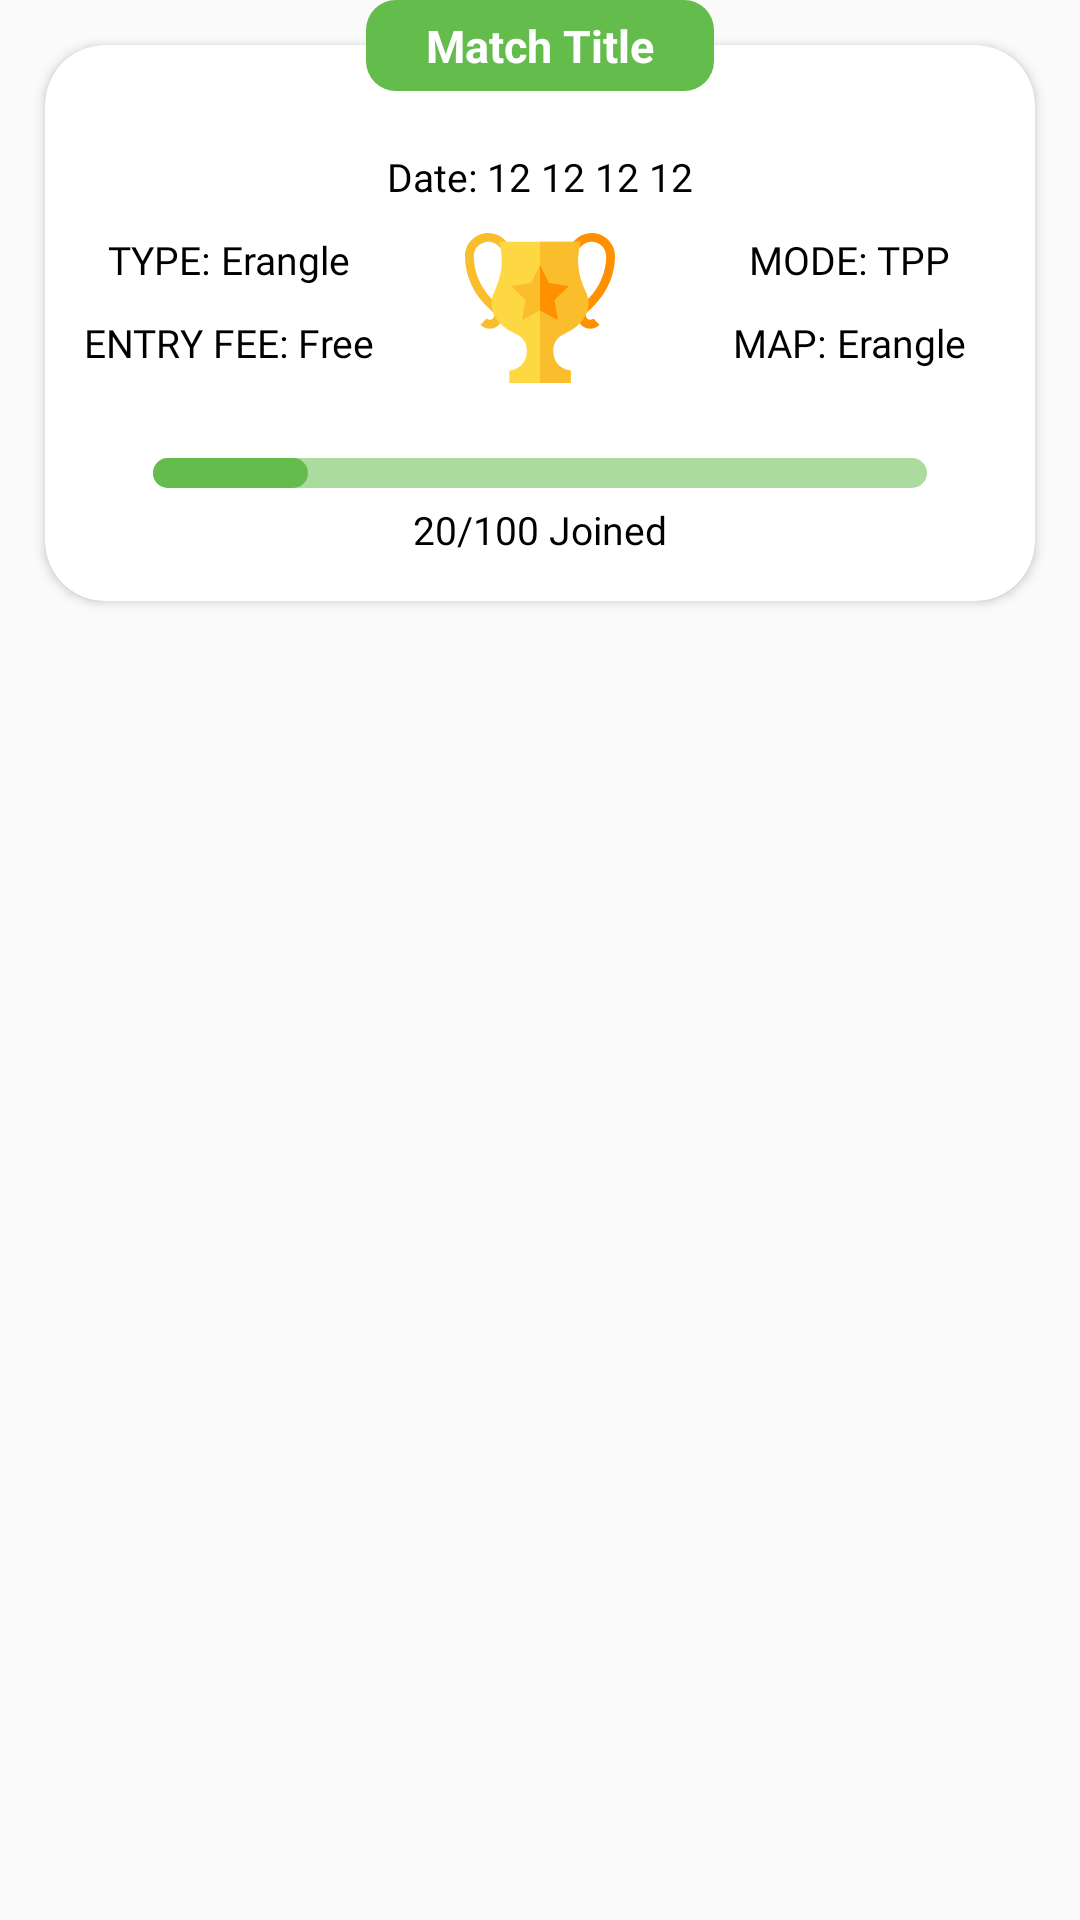

Screen size 1080w x 1920h. Icon name, then its center in pixels as point (x, y):
prize: point (540, 308)
